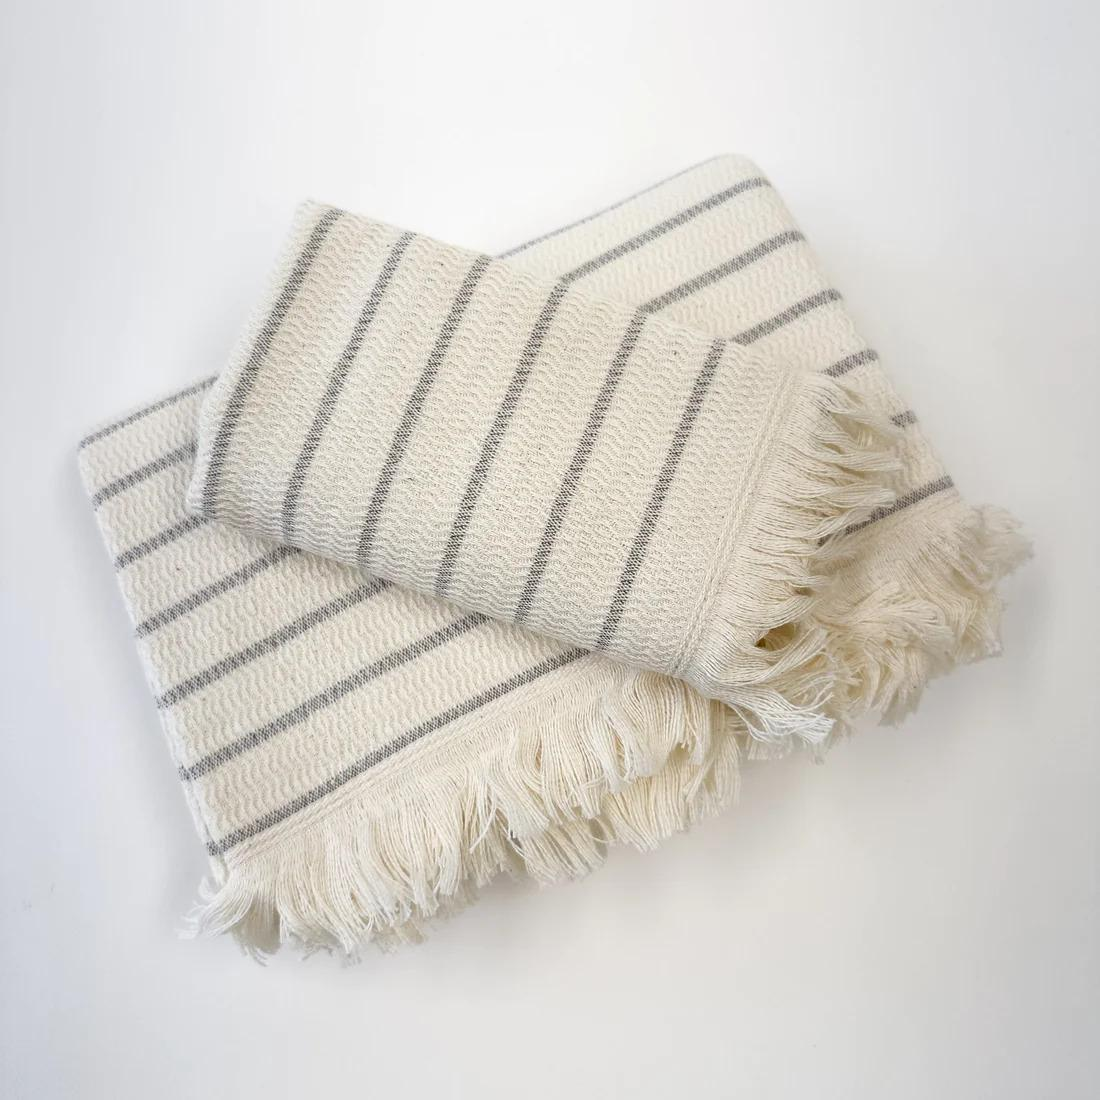towel: (215, 202, 847, 710)
